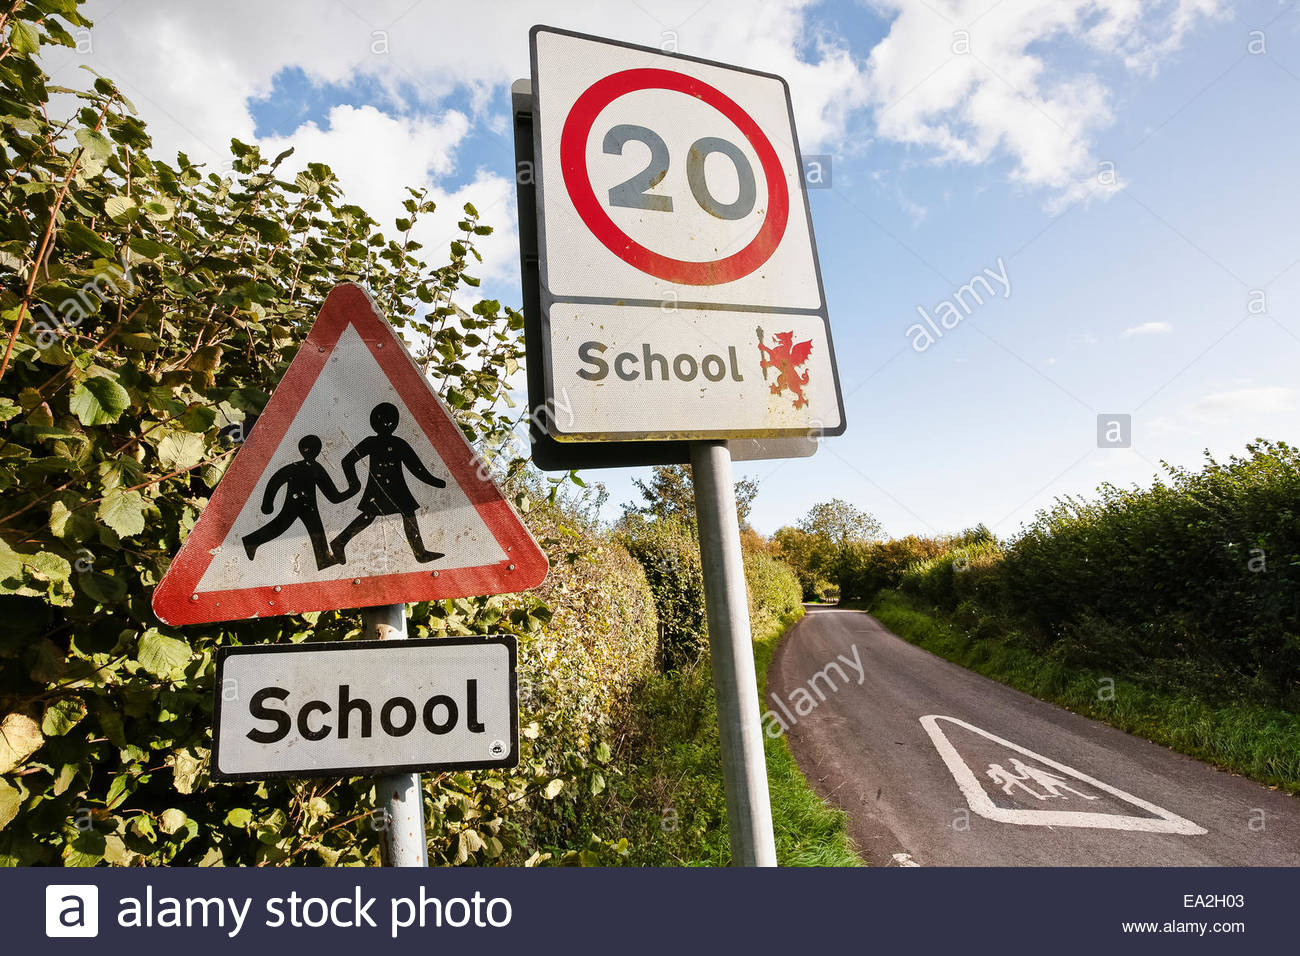speed_limit_20: (560, 63, 791, 287)
